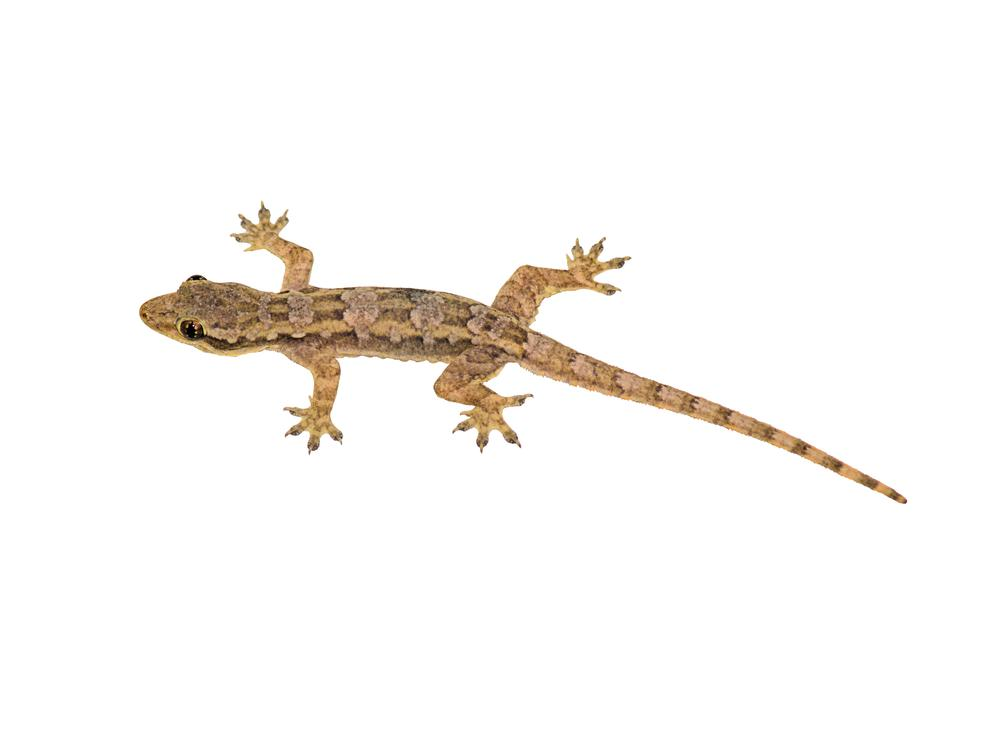lizard: (137, 197, 908, 509)
